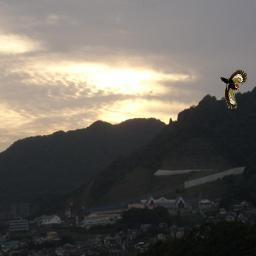Woodpecker: (220, 69, 247, 109)
